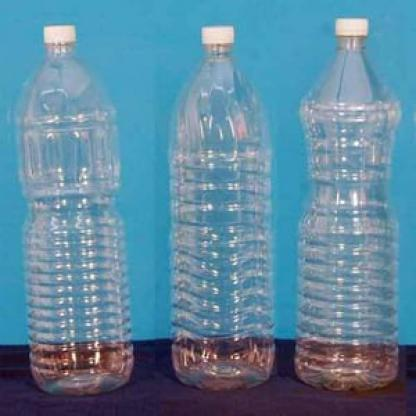Plastic Bottle: (21, 25, 133, 395), (296, 19, 400, 392), (171, 25, 275, 391)
